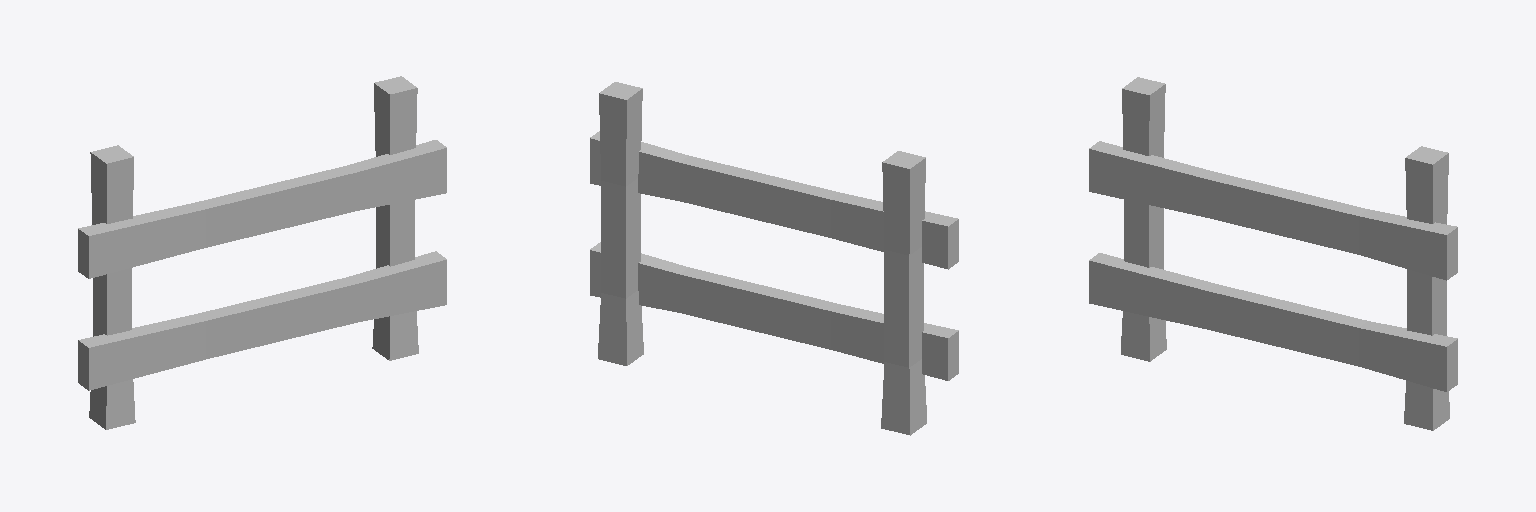
The model's file is fence_01.obj.
3 views of the same model, side by side, from view 1: azimuth 30°, elevation 25°; view 2: azimuth 150°, elevation 25°; view 3: azimuth 330°, elevation 25° (orthographic).
Parts seen in each view (by area): view 1: pCube5; view 2: pCube5; view 3: pCube5.
Part boxes in pixels (x1,y1,x2,y2): pCube5: (78,76,446,429); pCube5: (590,82,958,435); pCube5: (1089,77,1457,430).
Bounding box in the file's own units: 14.66 × 10.39 × 1.73.